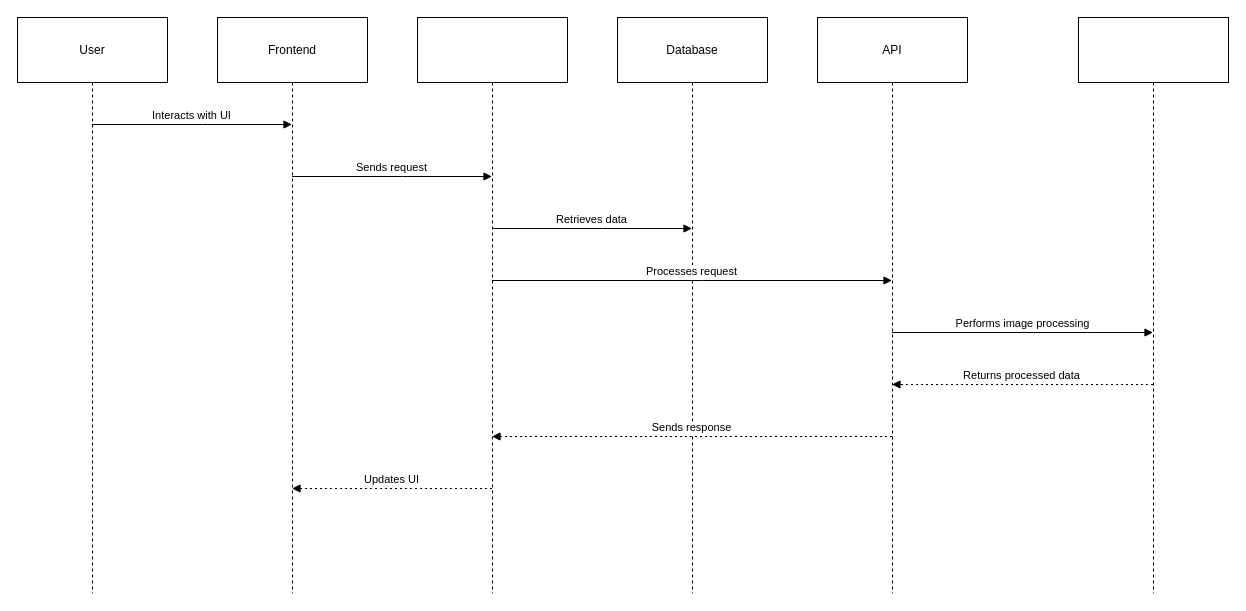
Image size: 1246x611. Some labels were removed from this diagram. The shapes that lost their labels are listed below. From the top down, each one's box as (x1, y1, x2, y2) in pixels, then its label:
(416, 16, 568, 594): Backend
(1078, 16, 1228, 594): TensorFlow
